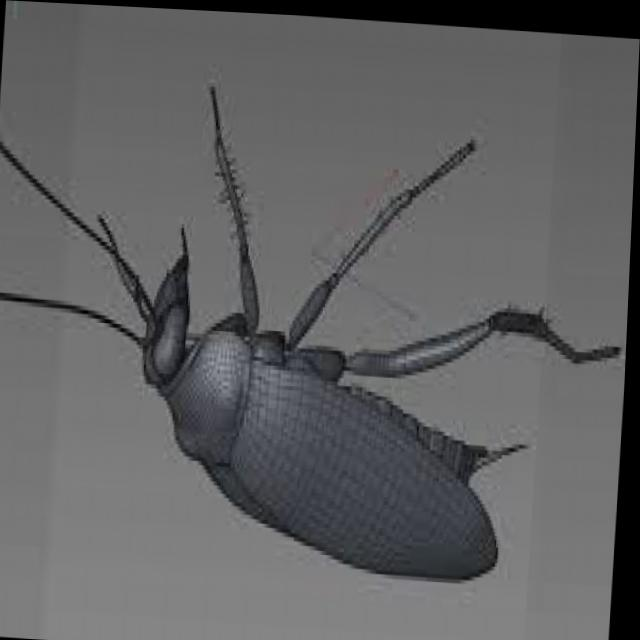Cockroach: (0, 47, 638, 607)
